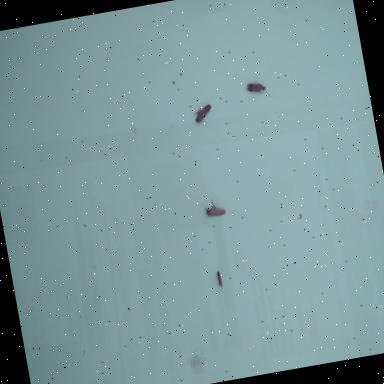pbw: (201, 197, 228, 221), (246, 79, 275, 101), (192, 104, 214, 124), (216, 271, 224, 291)
